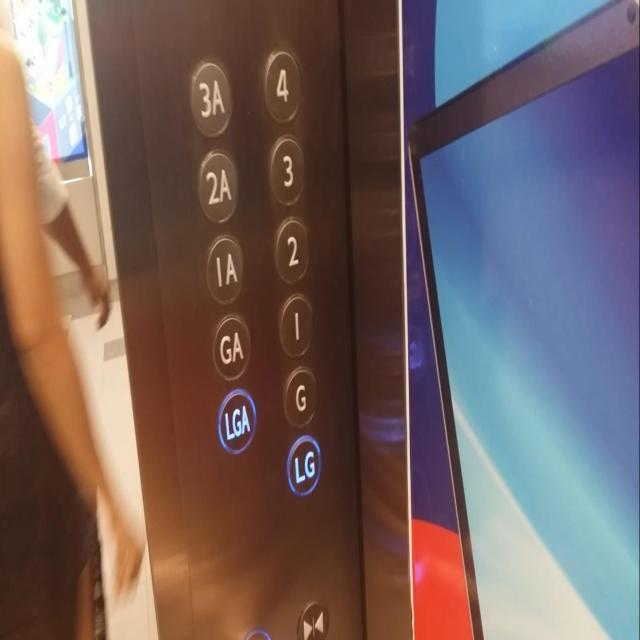1: (276, 288, 316, 362)
1A: (203, 231, 246, 308)
2: (271, 214, 312, 288)
2A: (196, 146, 240, 228)
3: (266, 132, 308, 208)
3A: (188, 57, 232, 136)
4: (261, 46, 305, 126)
G: (281, 364, 319, 431)
GA: (210, 311, 251, 387)
LG: (284, 432, 323, 502)
LGA: (217, 386, 259, 457)
close: (296, 595, 330, 639)
